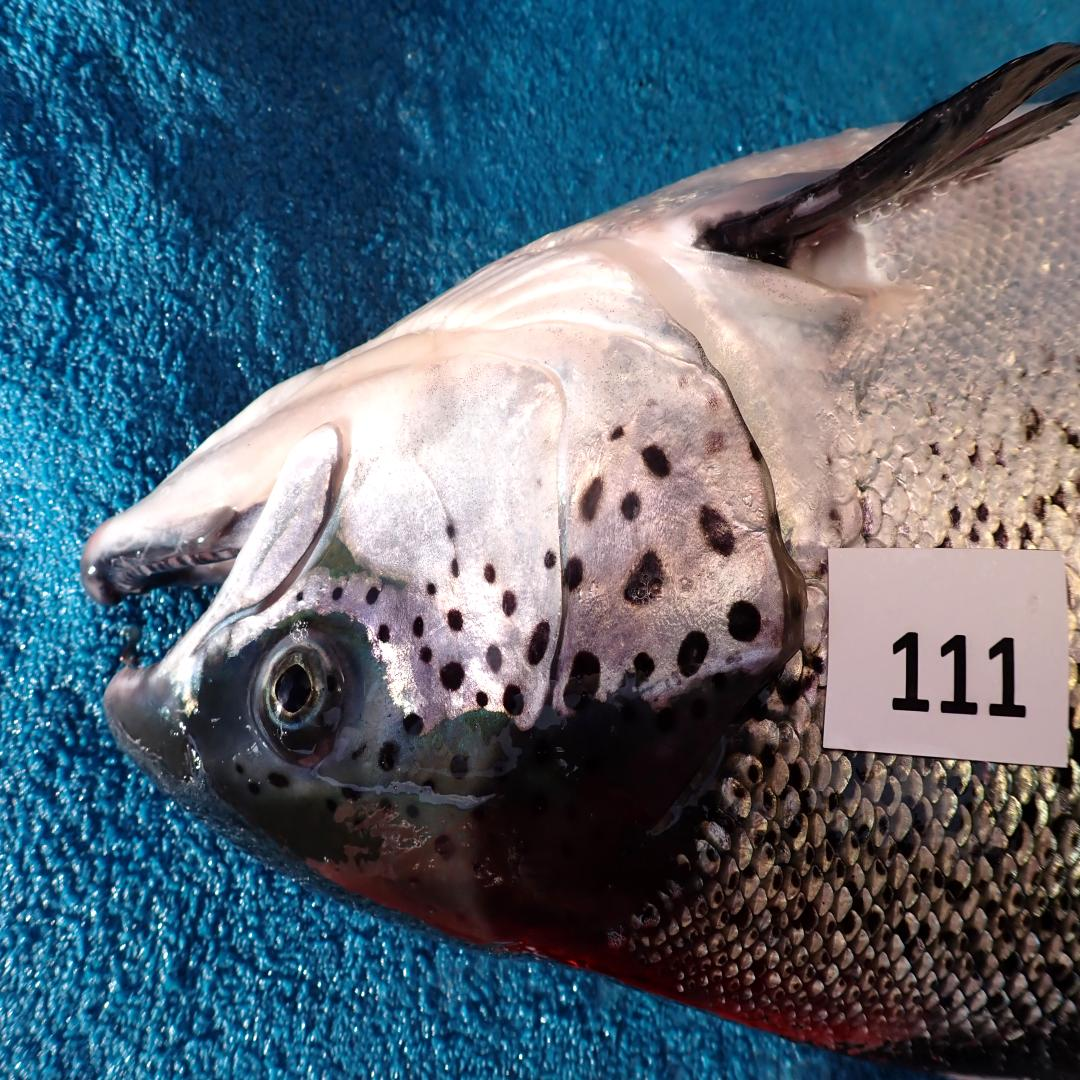roi: (339, 225, 791, 728)
